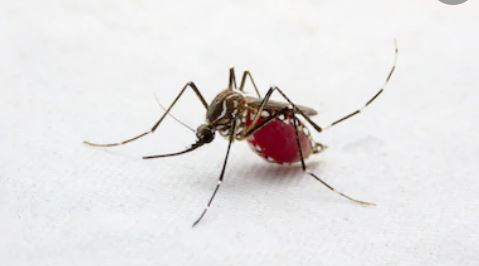dengue_mosquito: (150, 66, 376, 206)
